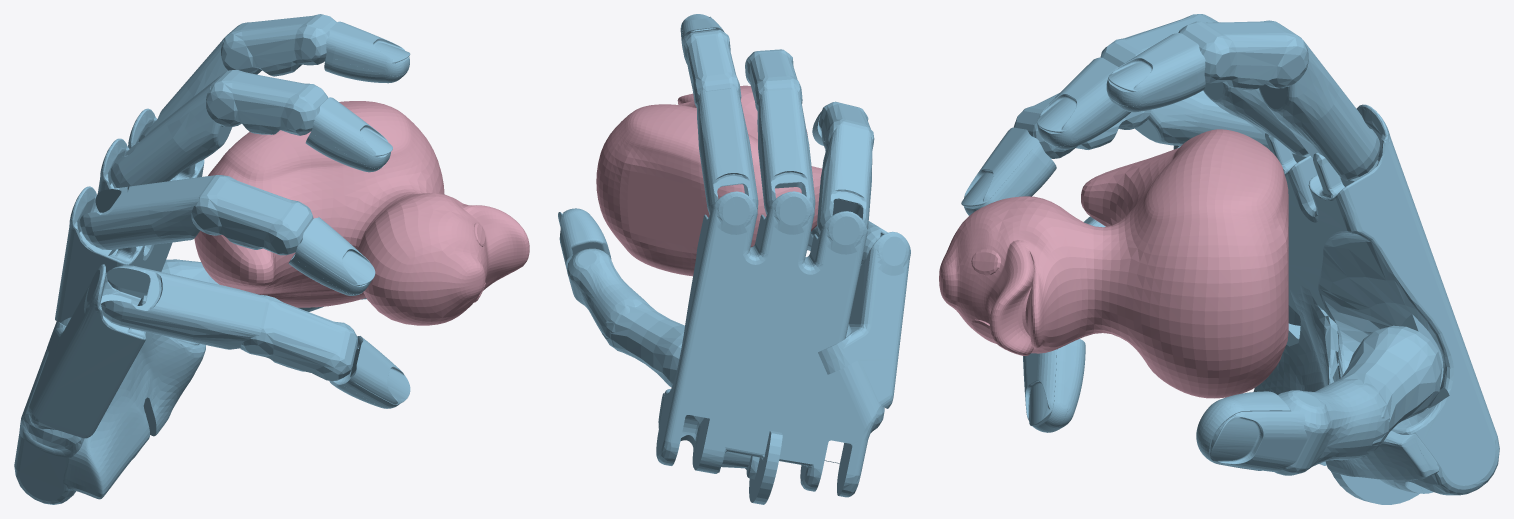
3 renders of one model, left to right at view 1: azimuth 30°, elevation 25°; view 2: azimuth 150°, elevation 25°; view 3: azimuth 270°, elevation 25°, orthographic. The views are drawn at different scales.
Parts seen in each view (by area): view 1: world, rubber_duck.stl; view 2: world, rubber_duck.stl; view 3: world, rubber_duck.stl.
Part boxes in pixels (bbox=[...]): world: bbox=[14, 14, 410, 504]; rubber_duck.stl: bbox=[194, 101, 529, 325]; world: bbox=[558, 14, 910, 504]; rubber_duck.stl: bbox=[596, 85, 822, 276]; world: bbox=[961, 14, 1499, 504]; rubber_duck.stl: bbox=[939, 129, 1288, 398].
Bounding box in the file's own units: 0.1598 × 0.1682 × 0.1539.
